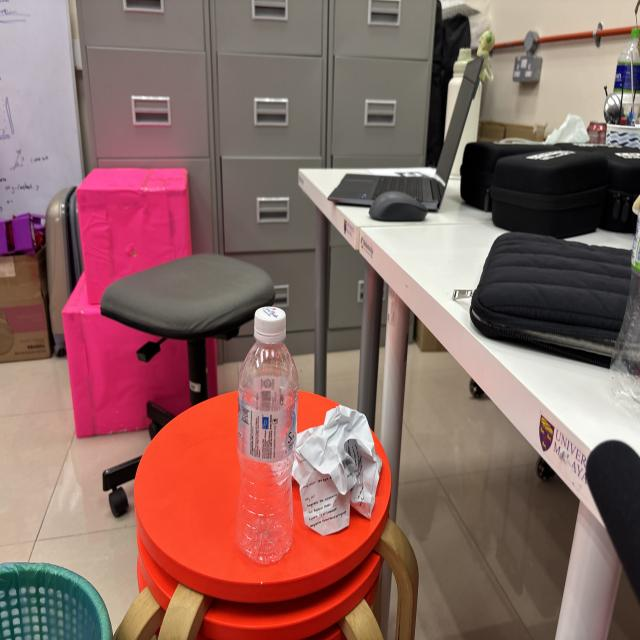crumpled_paper: (289, 401, 386, 542)
plastic_bottle: (234, 294, 301, 579)
